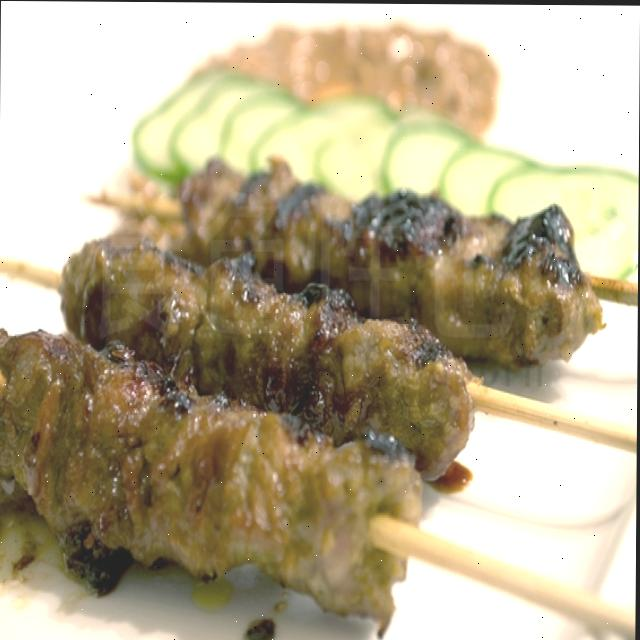牛肉菜式: (0, 20, 639, 640)
